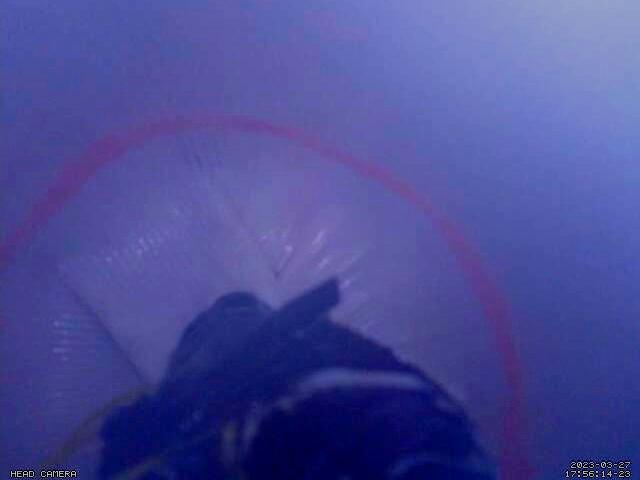head: (1, 113, 539, 480)
